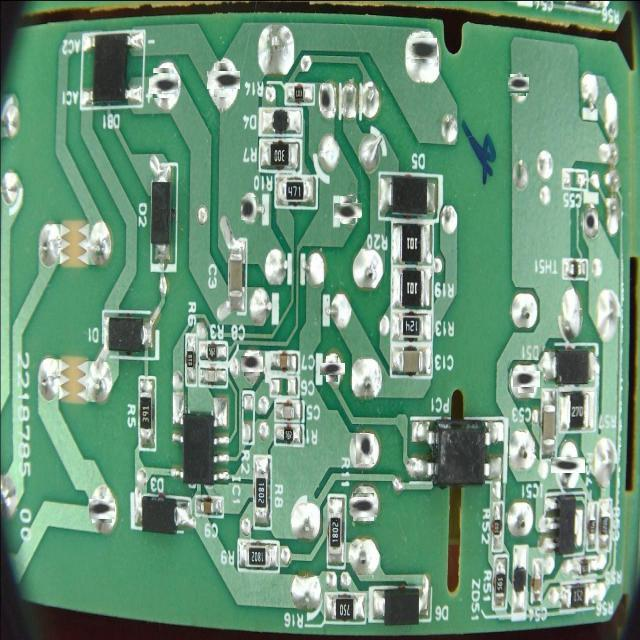damged: (210, 68, 236, 94), (409, 35, 435, 61), (555, 453, 581, 478), (151, 71, 176, 96), (351, 495, 376, 519), (90, 498, 114, 521), (356, 434, 374, 464), (337, 199, 359, 221), (515, 368, 537, 390), (240, 196, 257, 220), (322, 359, 342, 379), (242, 355, 262, 374), (320, 84, 334, 111), (584, 208, 598, 234), (509, 76, 527, 94)
